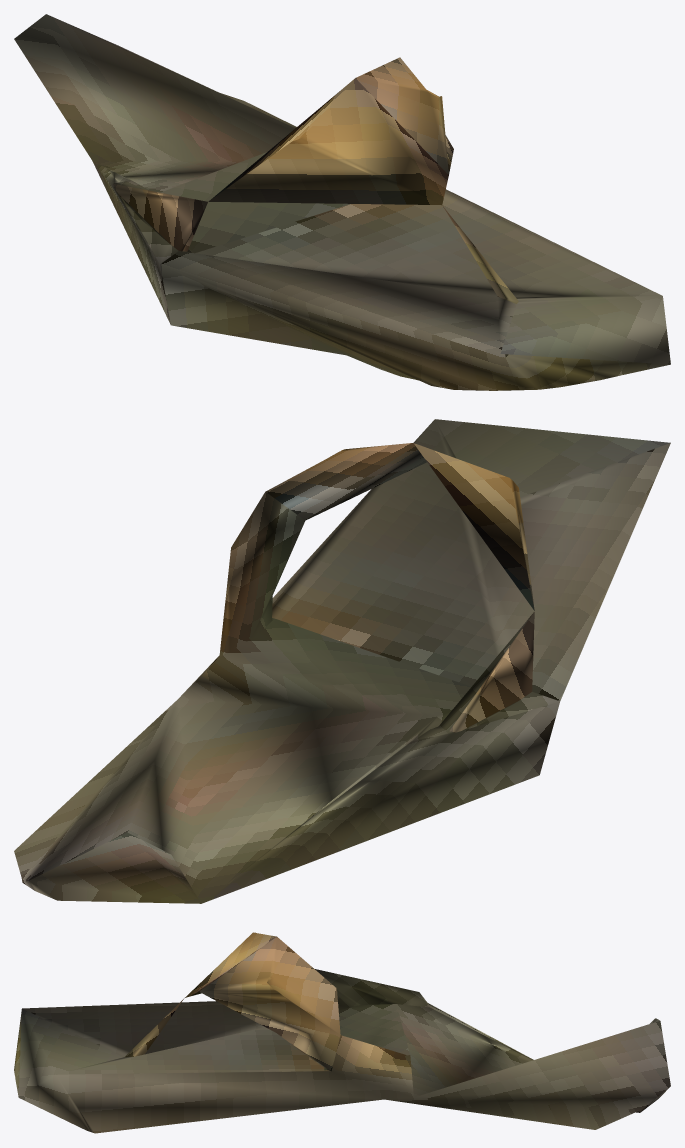
File: Womens_Suede_Bahama_in_Graphite_Suede_p1KUwoWbw7R-low.glb
3 renders of one model, top to bottom at view 1: azimuth 30°, elevation 25°; view 2: azimuth 150°, elevation 25°; view 3: azimuth 270°, elevation 25°, orthographic. The views are drawn at different scales.
Visible parts, largest first — view 1: Womens_Suede_Bahama_in_Graphite_Suede_p1KUwoWbw7R; view 2: Womens_Suede_Bahama_in_Graphite_Suede_p1KUwoWbw7R; view 3: Womens_Suede_Bahama_in_Graphite_Suede_p1KUwoWbw7R.
Part boxes in pixels (box(x1,y1,x2,y2)): Womens_Suede_Bahama_in_Graphite_Suede_p1KUwoWbw7R: box(14, 14, 670, 390); Womens_Suede_Bahama_in_Graphite_Suede_p1KUwoWbw7R: box(14, 419, 670, 903); Womens_Suede_Bahama_in_Graphite_Suede_p1KUwoWbw7R: box(14, 932, 670, 1133).
Bounding box in the file's own units: 0.1117 × 0.0778 × 0.2834.
1 material, 1 textured.
